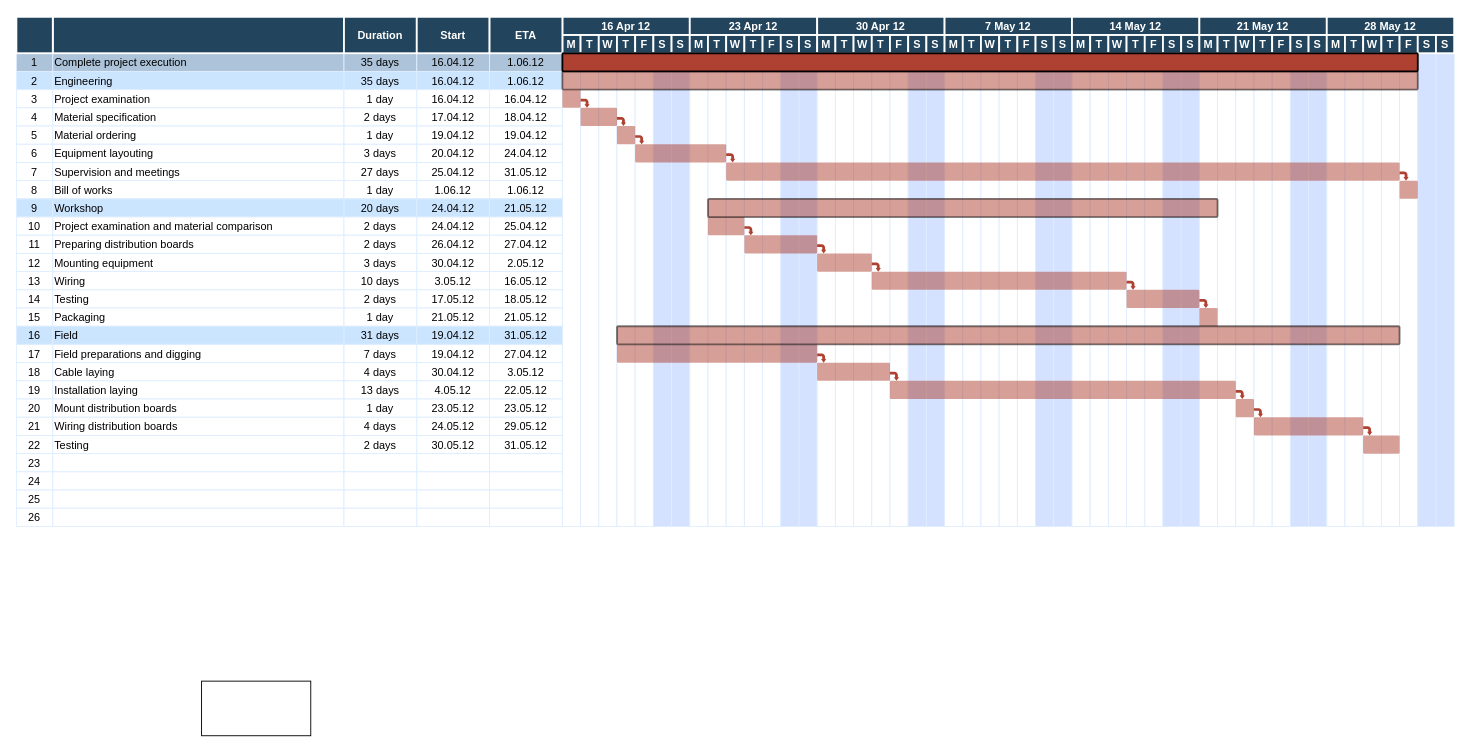
The diagram is 1471 pixels wide and 752 high, and some of its shapes have lost their labels. The box of each missing label's shape, as (x1, y1, x2, y2) in pixels:
aaa: (201, 680, 311, 736)
Task Name: (51, 15, 344, 54)
